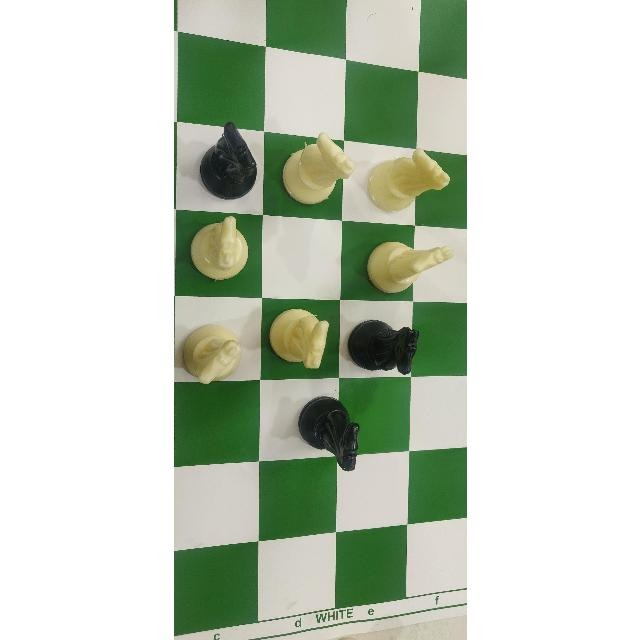black-knight: (186, 118, 262, 207), (288, 388, 368, 472), (346, 309, 420, 376)
white-knight: (364, 136, 455, 218), (355, 228, 459, 295), (276, 131, 352, 215), (181, 312, 253, 392), (187, 215, 253, 288), (265, 307, 335, 375)
